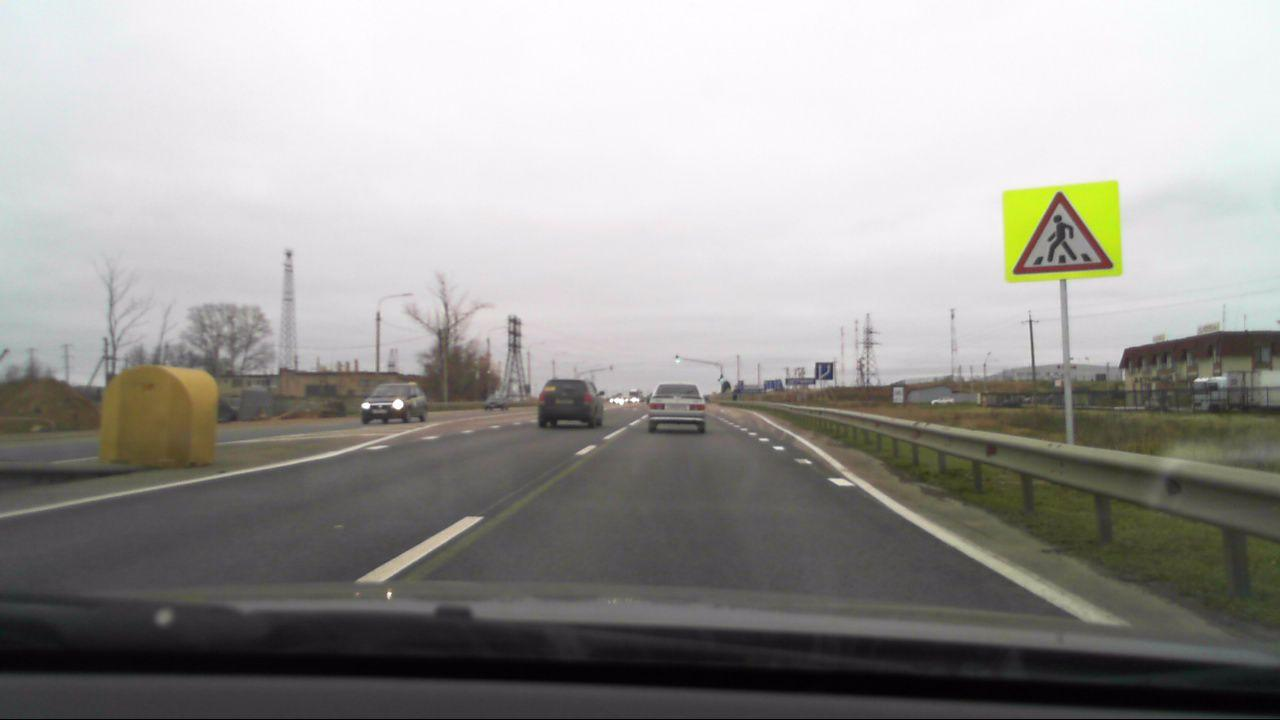1_22: (1004, 184, 1120, 276)
5_15_3: (816, 361, 834, 380)
